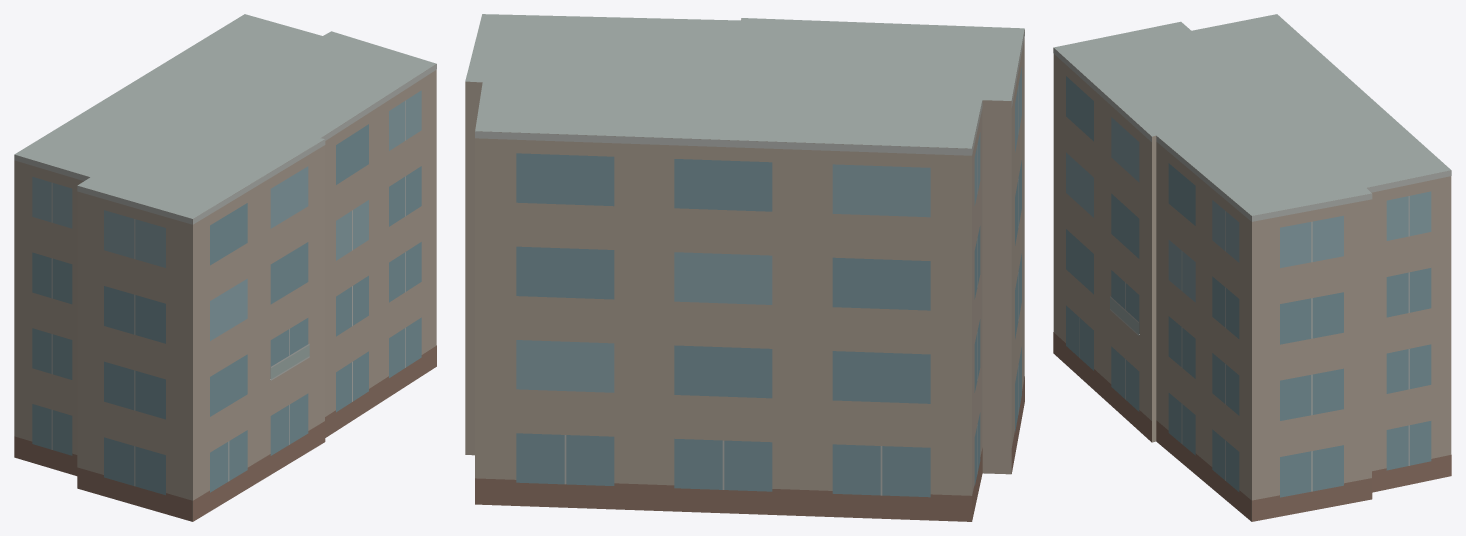
Rendered from survey-upis-32744000.glb.
3 views of the same model, side by side, from view 1: azimuth 30°, elevation 25°; view 2: azimuth 150°, elevation 25°; view 3: azimuth 270°, elevation 25° (orthographic). The views are drawn at different scales.
Parts seen in each view (by area): view 1: survey-upis-32744000.tmp; view 2: survey-upis-32744000.tmp; view 3: survey-upis-32744000.tmp.
Boxes of the visible parts, x1,y1,x2,y2 form: survey-upis-32744000.tmp: (14,14,436,521); survey-upis-32744000.tmp: (465,14,1024,521); survey-upis-32744000.tmp: (1053,14,1451,521).
Bounding box in the file's own units: 18 × 12.7 × 14.99.
